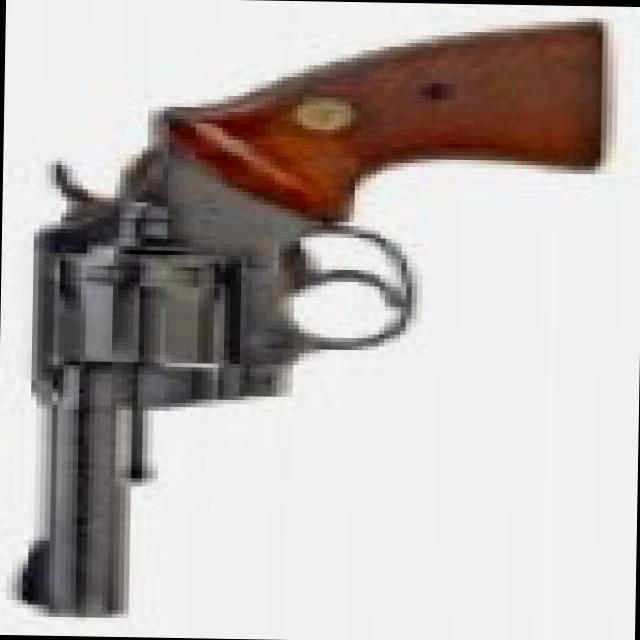handgun: (5, 10, 598, 632)
